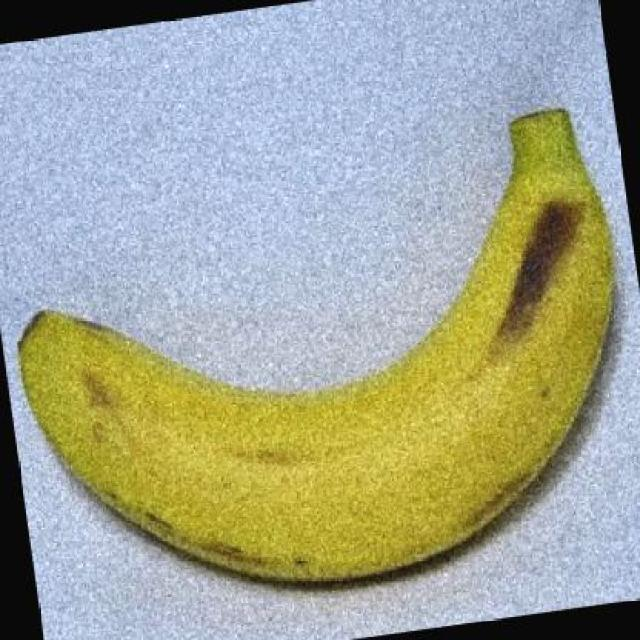ripe: (10, 77, 640, 610)
